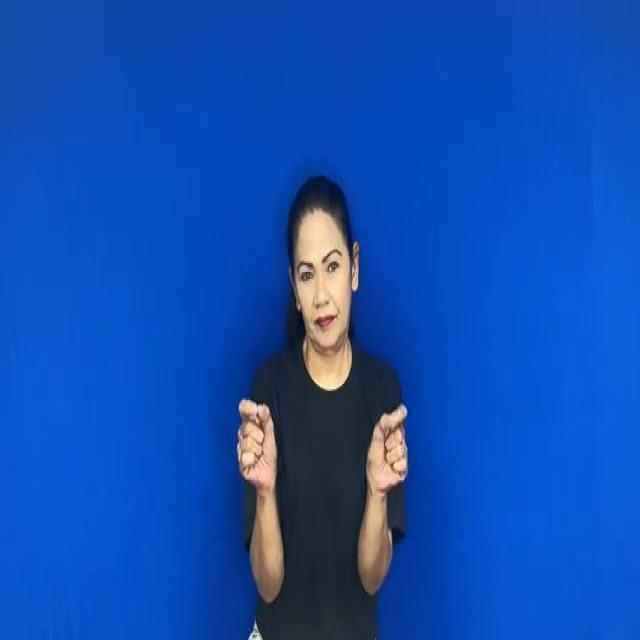crab: (227, 383, 421, 500)
